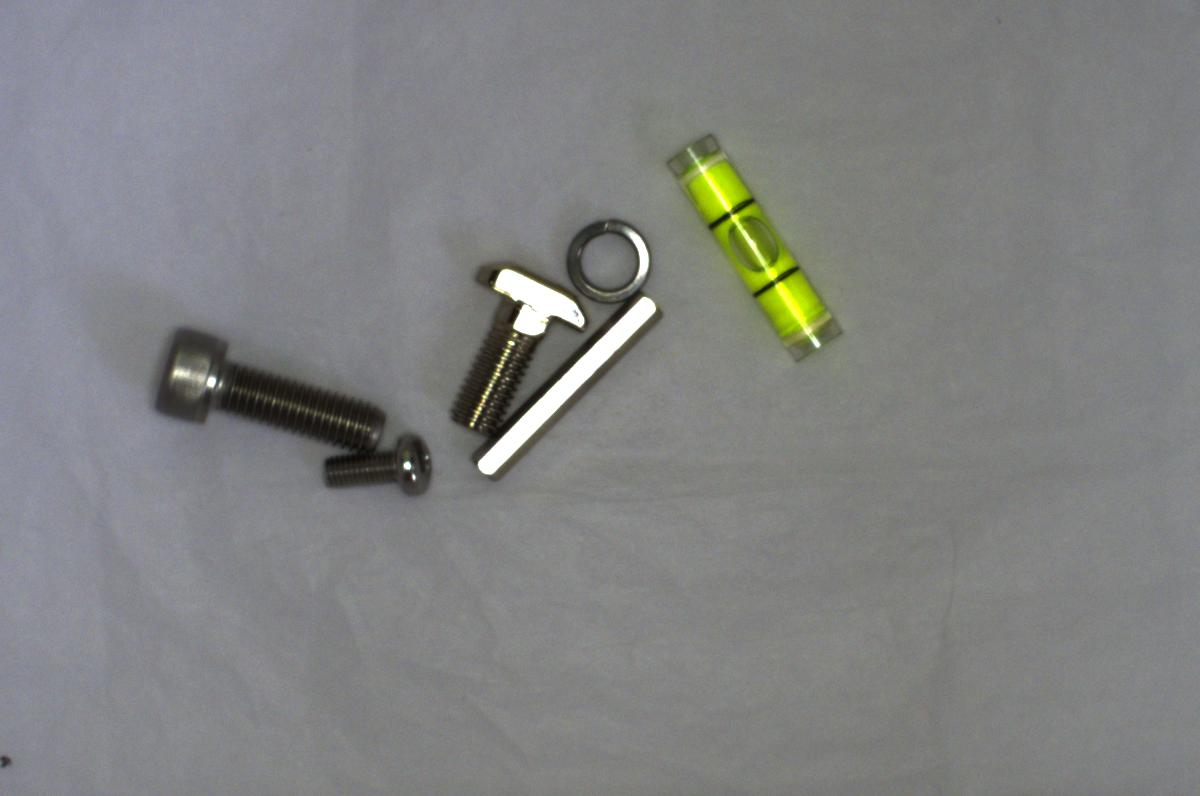Double hexagonal column: (468, 293, 678, 487)
Hexagon screw: (144, 327, 394, 456)
Horizontal bubble: (665, 130, 842, 370)
Round head screw: (328, 430, 435, 496)
Spring washer: (554, 213, 662, 302)
T-shaped screw: (435, 255, 584, 433)
